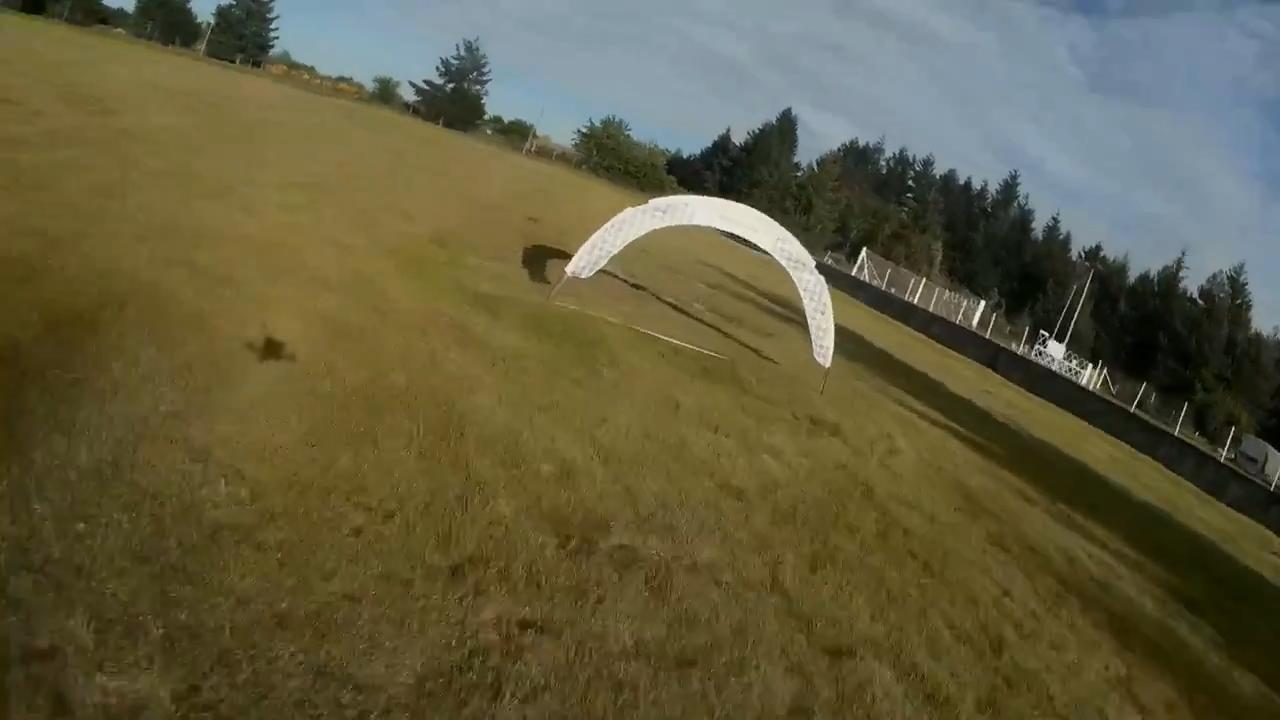gate: (563, 192, 832, 367)
